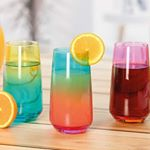cups: (49, 44, 94, 135), (1, 39, 44, 125), (108, 39, 150, 126)
